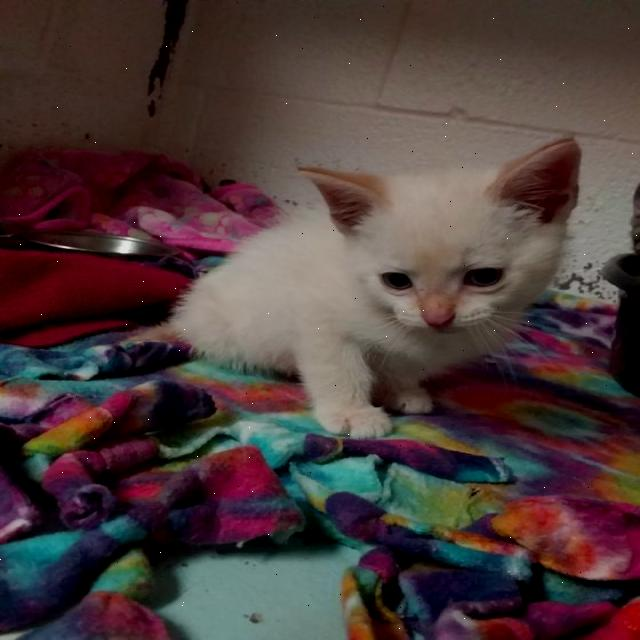siamese_cat: (294, 122, 606, 358)
